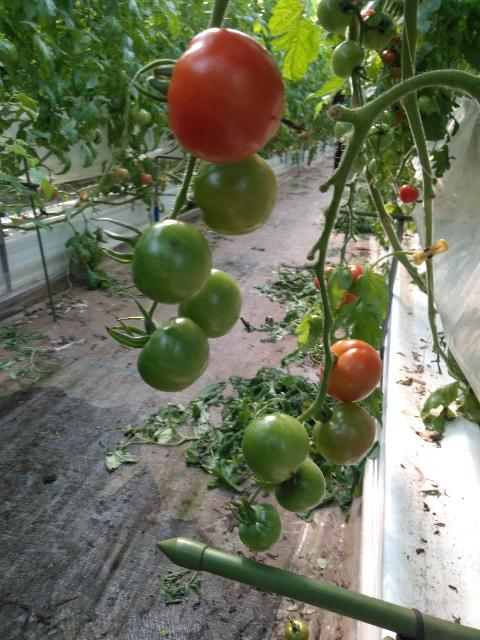l_fully_ripened: (167, 28, 285, 164), (399, 184, 419, 204)
l_green: (131, 220, 213, 305), (193, 154, 277, 236), (137, 316, 210, 392), (241, 413, 309, 483), (178, 269, 243, 340), (274, 457, 327, 513), (239, 503, 283, 552), (361, 11, 395, 50), (331, 41, 364, 79), (317, 0, 354, 33), (369, 124, 394, 150)
l_half_ripened: (319, 339, 383, 403), (313, 402, 376, 466), (284, 619, 308, 640)
